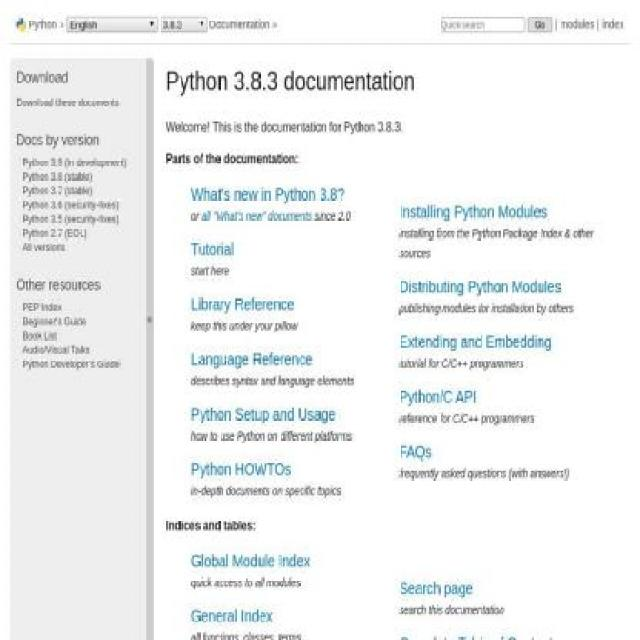field: (65, 16, 158, 33), (440, 18, 525, 33), (159, 16, 207, 33), (527, 18, 553, 33)
